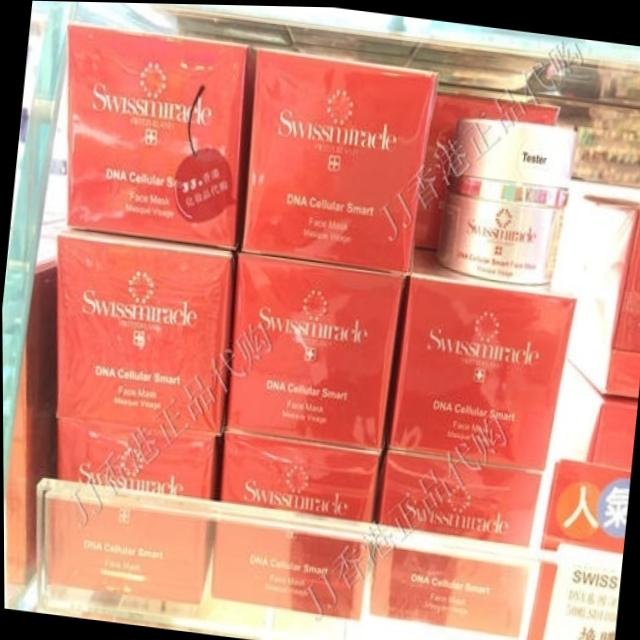box: (238, 45, 439, 274), (383, 243, 579, 465), (64, 26, 253, 249), (55, 226, 236, 432), (224, 254, 410, 450), (411, 90, 559, 248), (549, 174, 640, 397), (373, 449, 544, 544), (216, 433, 383, 521), (55, 417, 222, 499), (547, 357, 634, 470)
